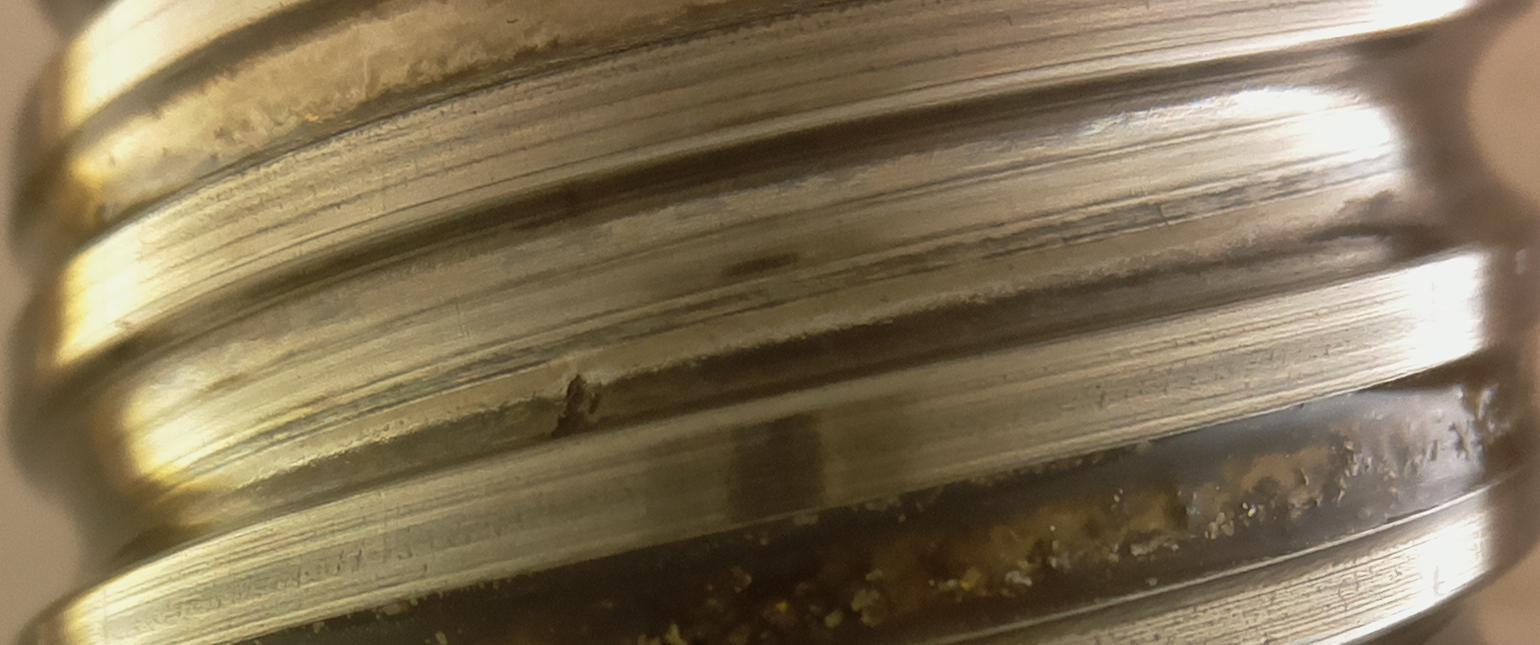pitting: (551, 375, 600, 439)
